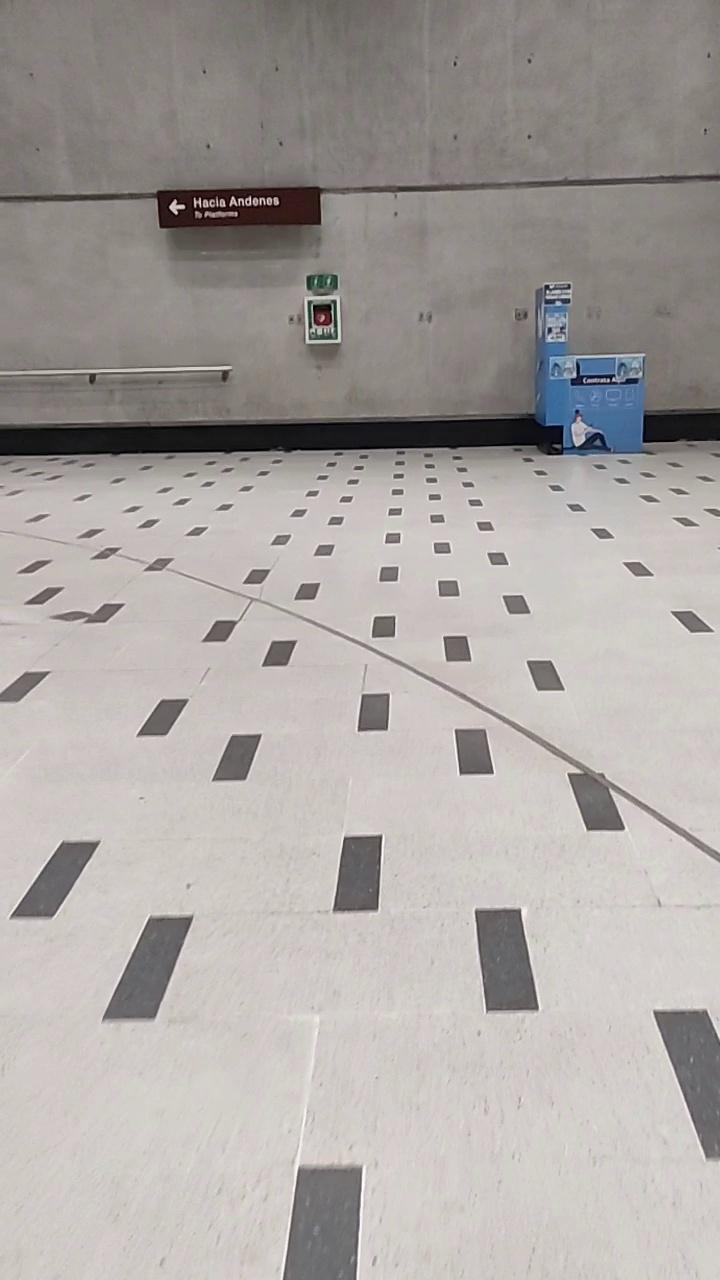left arrow: (167, 197, 190, 220)
